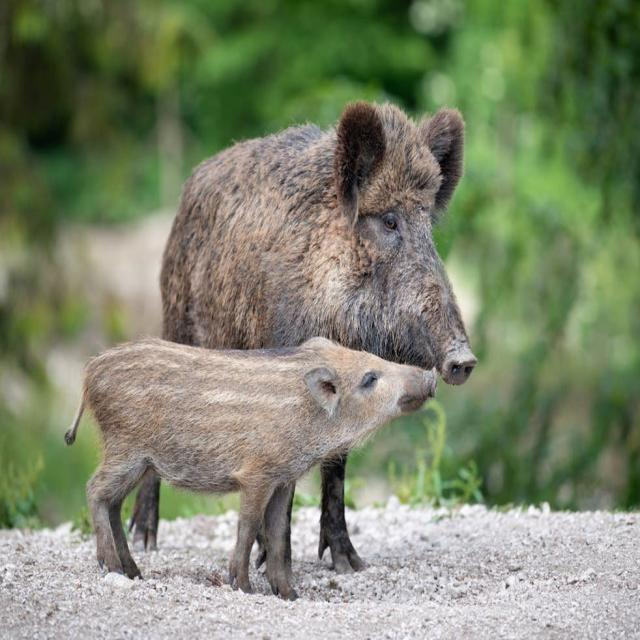Boar: (153, 99, 500, 368), (67, 350, 436, 570)
